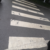zebra: (9, 1, 49, 49)
